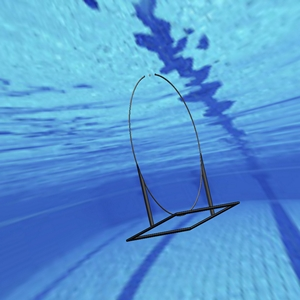circle: (124, 67, 238, 242)
